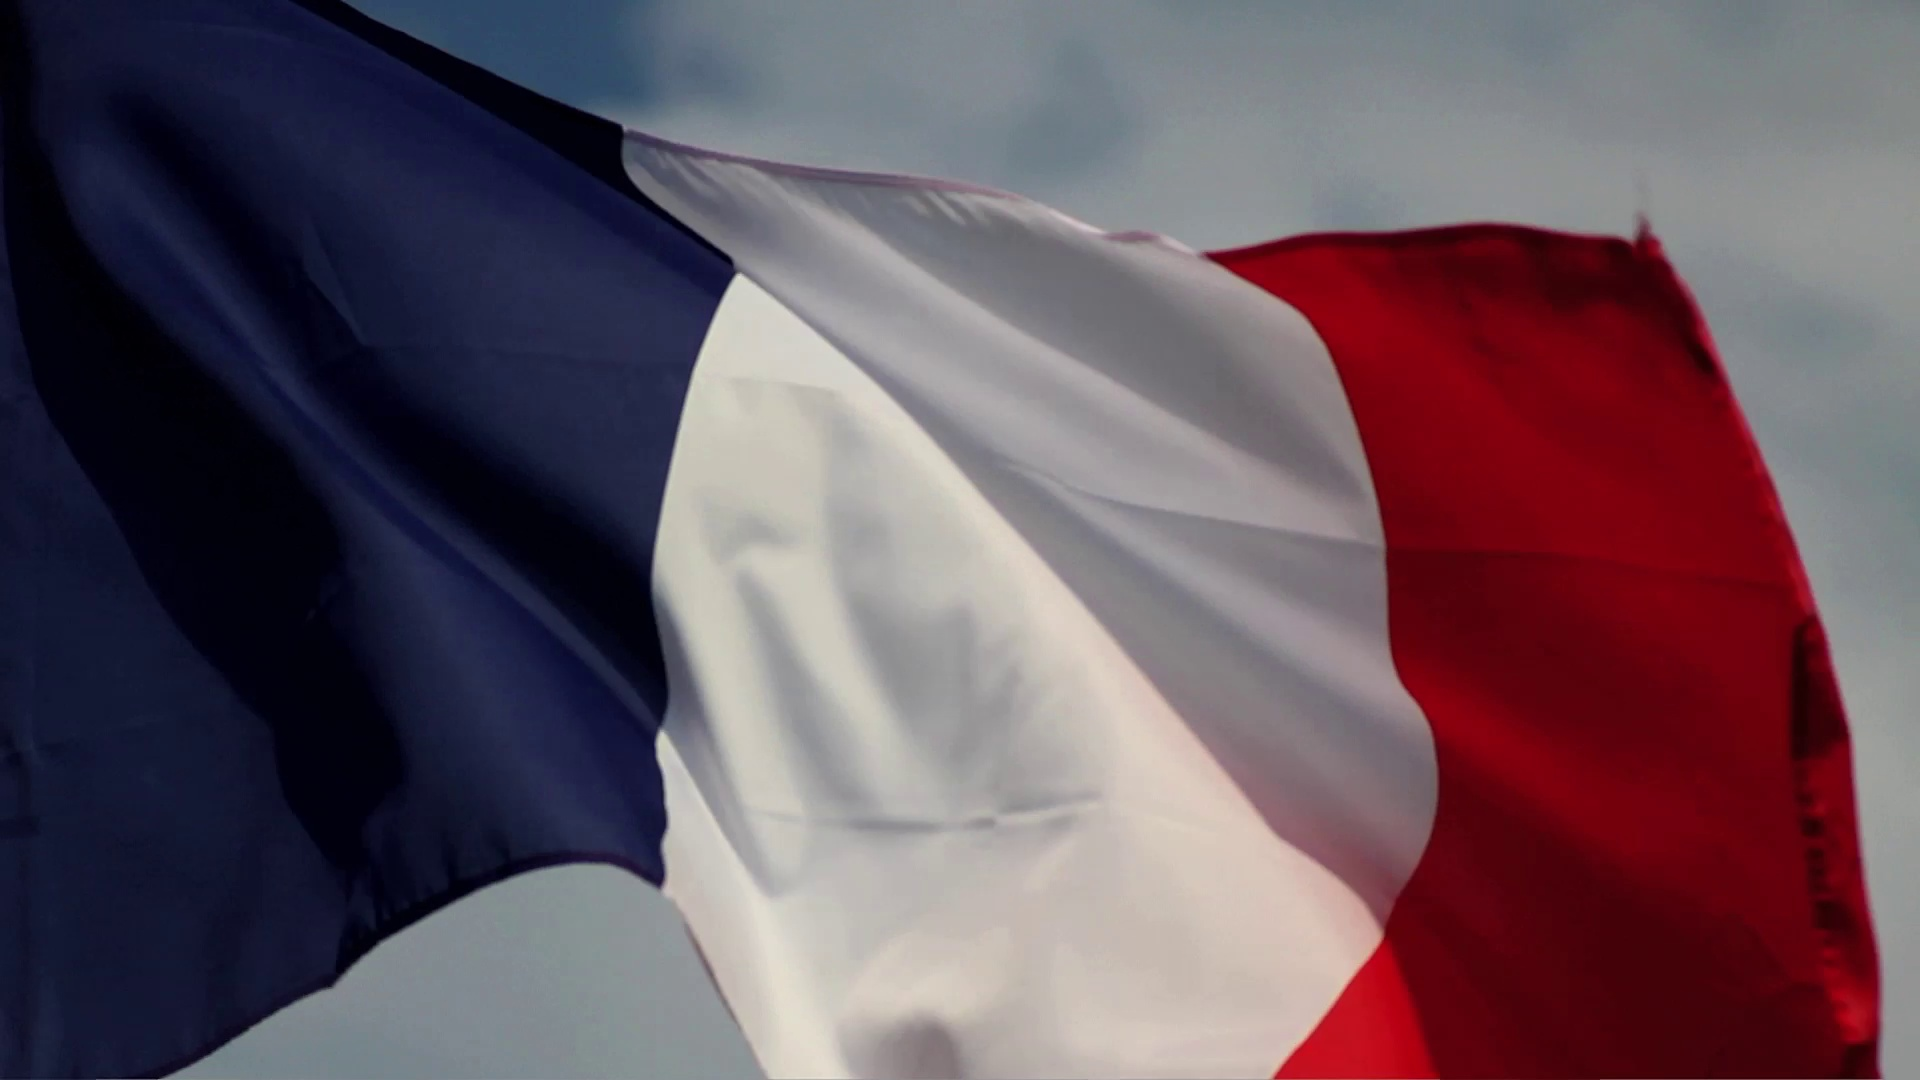French Flag: (1, 1, 1875, 1080)
